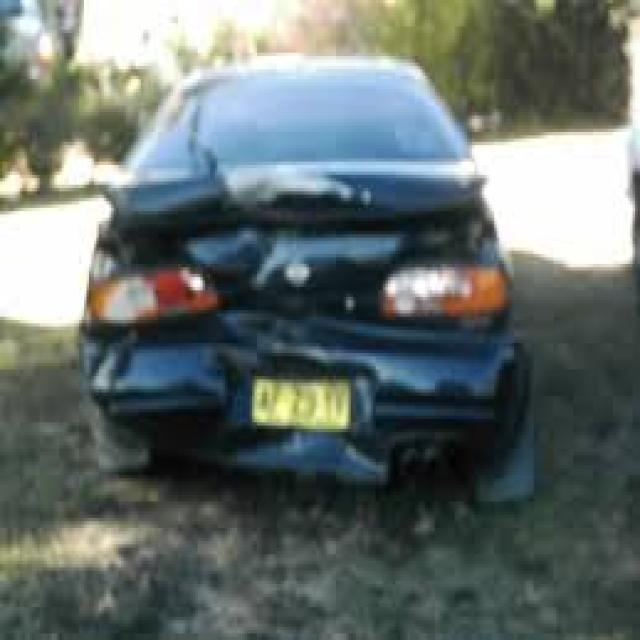moderate: (54, 126, 580, 533)
